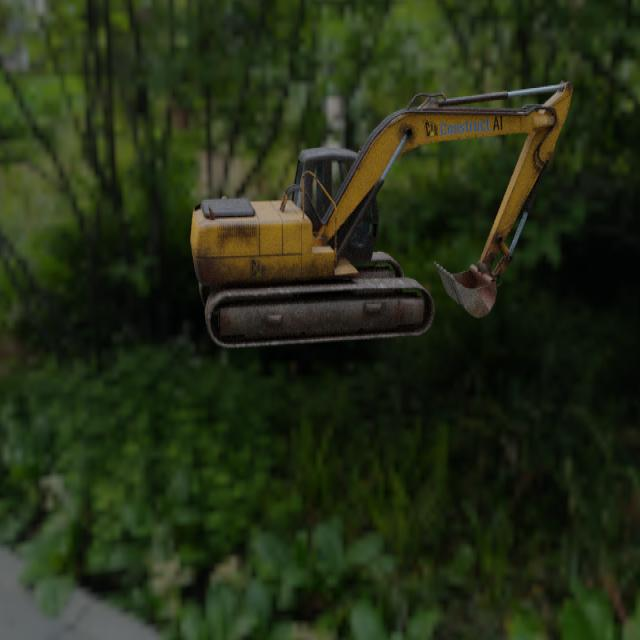excavator: (189, 80, 573, 348)
